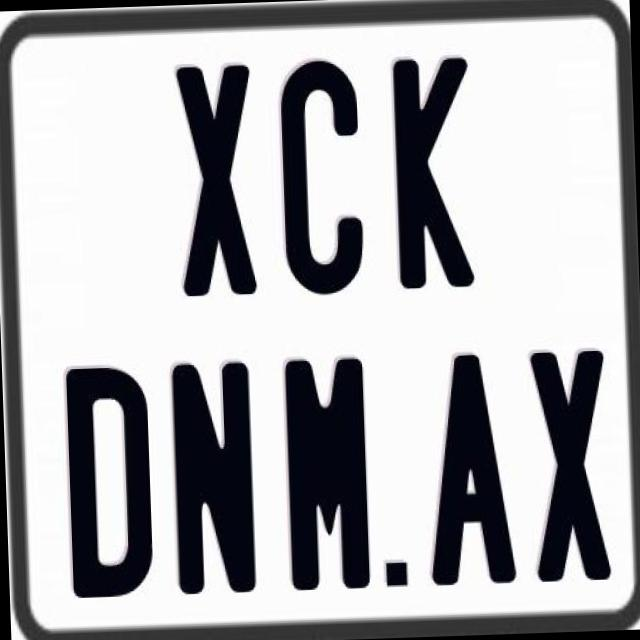A: (419, 351, 518, 584)
C: (277, 59, 363, 304)
D: (61, 362, 155, 598)
K: (392, 54, 478, 294)
M: (283, 352, 371, 589)
N: (171, 358, 263, 598)
X: (172, 64, 262, 298), (528, 347, 610, 583)
